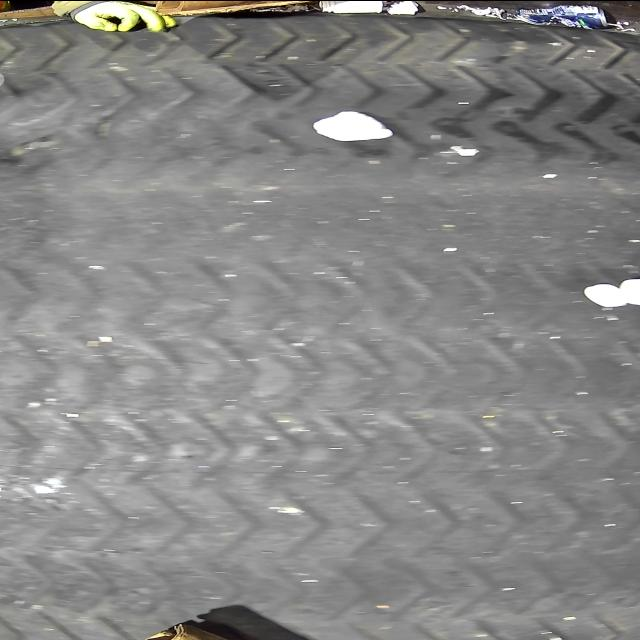can: (513, 4, 609, 26)
